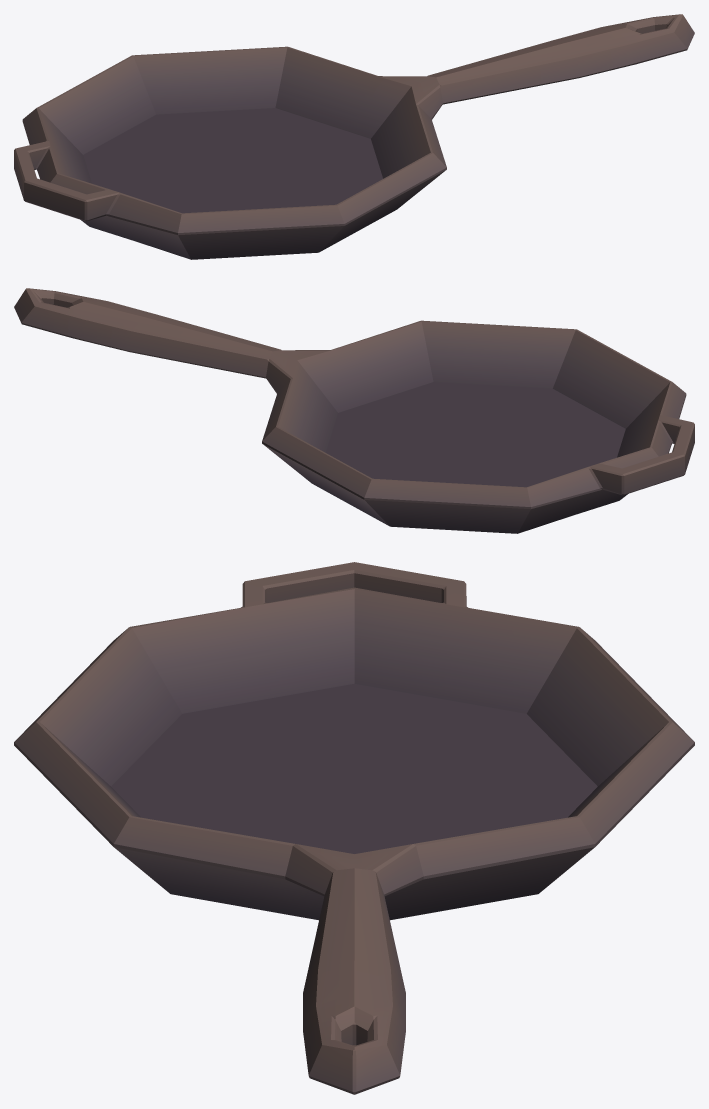
The model's file is SM_Pan.fbx.
The picture shows the model from 3 angles, top to bottom: view 1: azimuth 30°, elevation 25°; view 2: azimuth 150°, elevation 25°; view 3: azimuth 270°, elevation 25°; orthographic projection. The views are drawn at different scales.
Visible parts, largest first — view 1: pan; view 2: pan; view 3: pan.
Boxes of the visible parts, box(x1,y1,x2,y2) form: pan: box(14, 14, 694, 259); pan: box(14, 288, 694, 533); pan: box(14, 562, 694, 1094).
Bounding box in the file's own units: 98.58 × 9.58 × 55.95.
